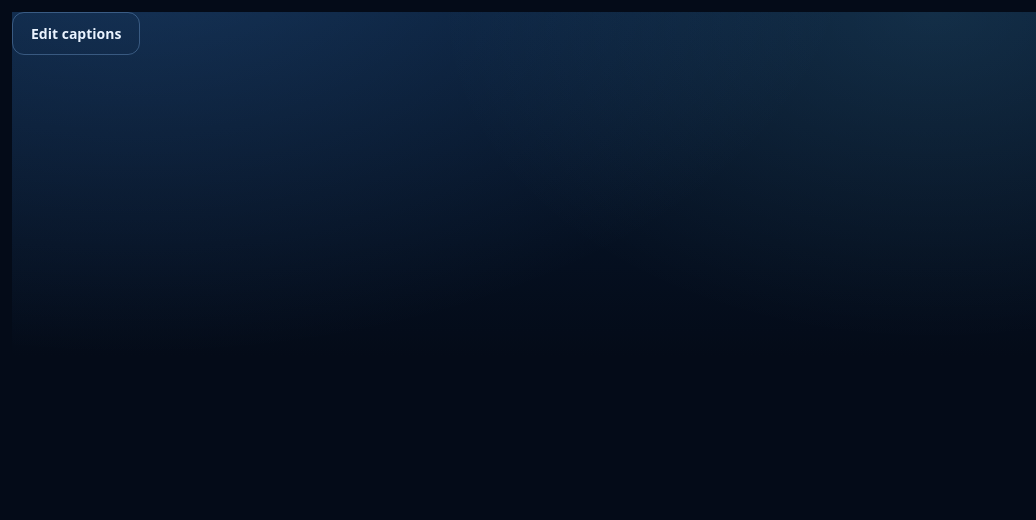
CaptionEditor › keeps the voice label and re-exports it in both formats
Later steps or results of the test are not shown.
Click the button "Edit captions": {"x": 76, "y": 34} [12, 12, 140, 55]
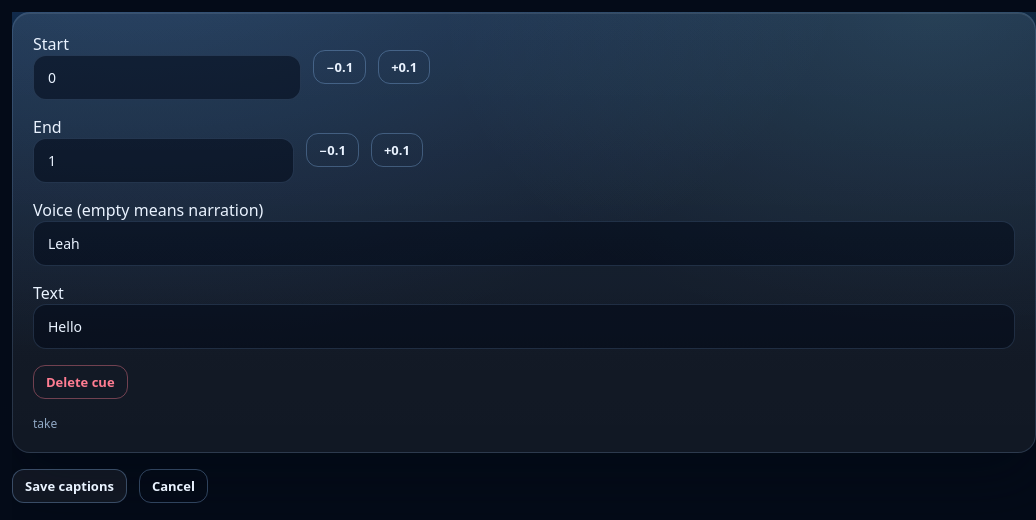
Now the field named "Cue voice 1" holds "Leah", box [33, 221, 1015, 266]
